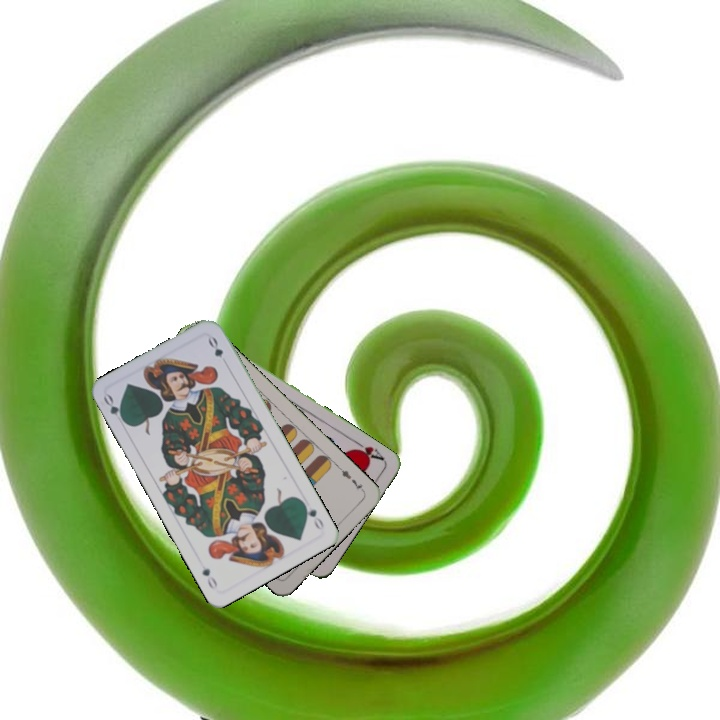E7: (334, 463, 367, 495)
GO: (99, 390, 129, 426), (298, 497, 327, 533)
HA: (348, 436, 387, 464)
